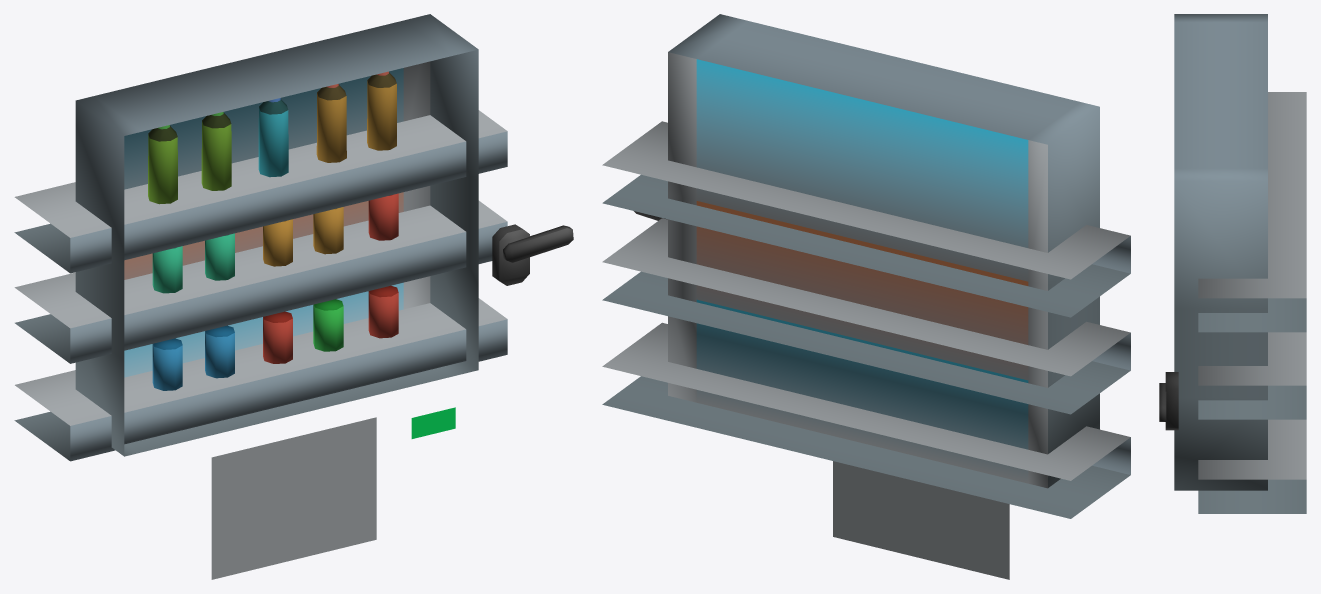
The picture shows the model from 3 angles, left to right: view 1: azimuth 30°, elevation 25°; view 2: azimuth 150°, elevation 25°; view 3: azimuth 270°, elevation 25°; orthographic projection. The views are drawn at different scales.
Parts seen in each view (by area): view 1: base.030; view 2: base.030; view 3: base.030.
Boxes of the visible parts, x1,y1,x2,y2 form: base.030: (14,14,573,579); base.030: (602,14,1130,579); base.030: (1159,14,1306,513).
Size of the model in its own units: 0.5 by 0.4586 by 0.1366.
